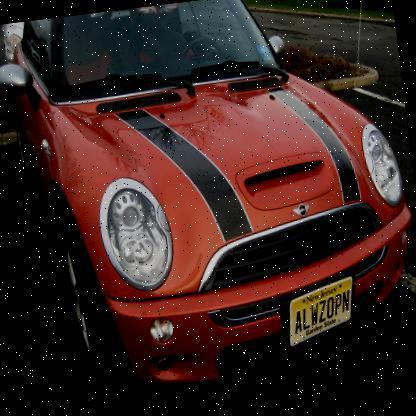License-Plate: (278, 269, 362, 348)
